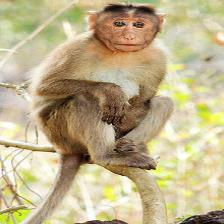monkey: (17, 0, 203, 188)
